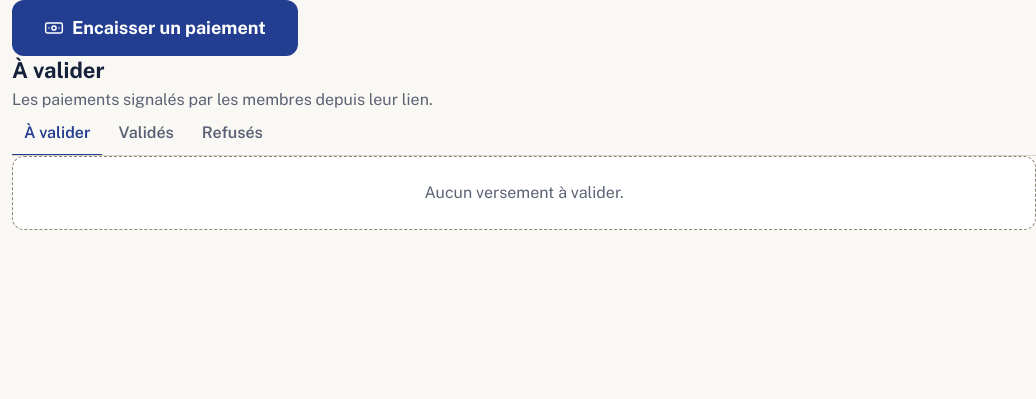
Test: B2 — la file « À valider » › onglet « Refusés » : le motif, qui, quand
Check: the text "Aucun versement à valider." is shown, box [12,156,1035,230]
Click the tab "Refusés". click: (232, 134)
box: [190,112,275,156]
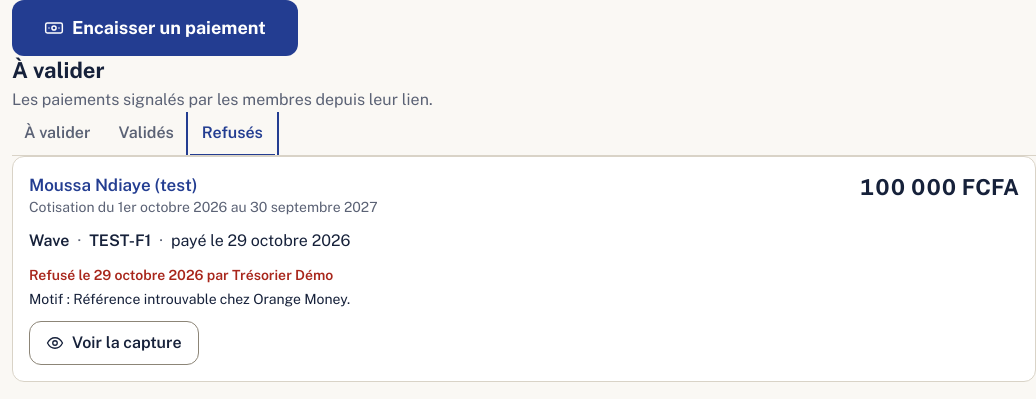
Check: the text "Refusé le 29 octobre 2026 par Trésorier Démo" is shown, box [29,267,333,283]
Check: the text "Motif : Référence introuvable chez Orange Money." is shown, box [29,291,350,307]
